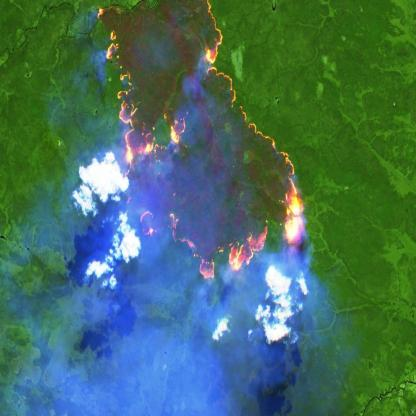fire: (94, 0, 306, 287)
